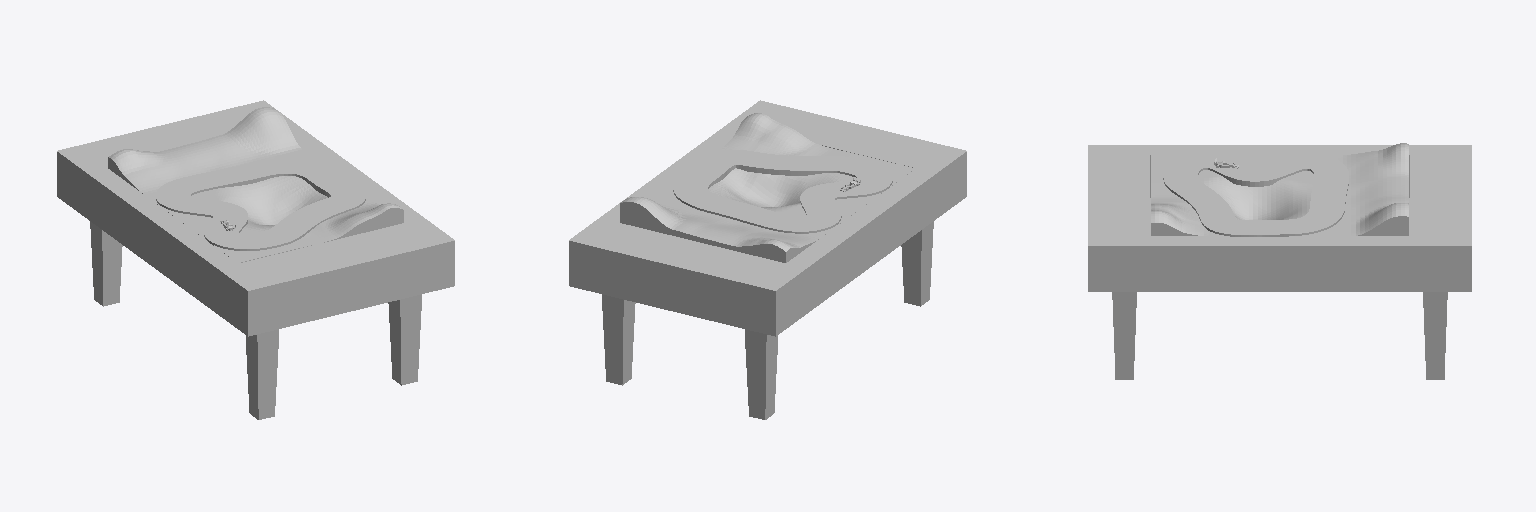
Rendered from NewestTisch70.obj.
The picture shows the model from 3 angles: view 1: azimuth 30°, elevation 25°; view 2: azimuth 150°, elevation 25°; view 3: azimuth 270°, elevation 25°; orthographic projection.
Parts seen in each view (by area): view 1: Tischplatte_wood_table_001, Landschaft_aerial_grass_rock, off, Bein1_wood_table_001, Bein4_wood_table_001.003, Bein3_wood_table_001.002; view 2: Tischplatte_wood_table_001, Landschaft_aerial_grass_rock, off, Bein2_wood_table_001.001, Bein3_wood_table_001.002, Bein4_wood_table_001.003; view 3: Tischplatte_wood_table_001, Landschaft_aerial_grass_rock, off, Bein1_wood_table_001, Bein2_wood_table_001.001.
Boxes of the visible parts, box(x1,y1,x2,y2) form: Tischplatte_wood_table_001: box(57, 100, 454, 336); Landschaft_aerial_grass_rock: box(108, 107, 403, 262); off: box(156, 159, 365, 250); Bein1_wood_table_001: box(388, 294, 421, 385); Bein4_wood_table_001.003: box(246, 329, 278, 419); Bein3_wood_table_001.002: box(90, 221, 122, 306); Tischplatte_wood_table_001: box(569, 100, 966, 336); Landschaft_aerial_grass_rock: box(620, 113, 915, 262); off: box(673, 150, 892, 233); Bein2_wood_table_001.001: box(602, 294, 635, 385); Bein3_wood_table_001.002: box(745, 329, 777, 419); Bein4_wood_table_001.003: box(901, 221, 933, 306); Tischplatte_wood_table_001: box(1088, 145, 1471, 291); Landschaft_aerial_grass_rock: box(1151, 143, 1408, 235); off: box(1163, 153, 1348, 236); Bein1_wood_table_001: box(1112, 292, 1136, 379); Bein2_wood_table_001.001: box(1423, 292, 1447, 379).
Bounding box in the file's own units: 5 × 3.91 × 8.